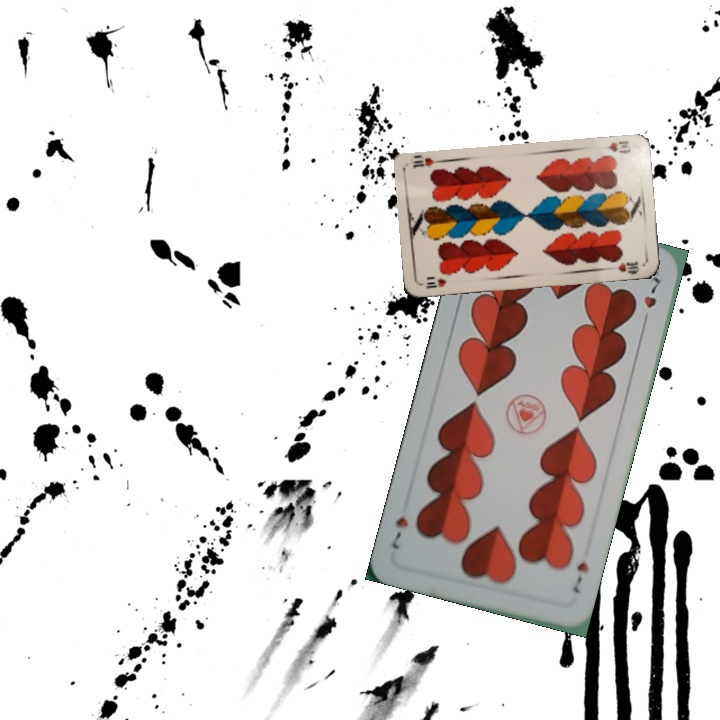H10: (599, 137, 633, 156), (417, 273, 449, 291)
H7: (569, 557, 591, 596)
